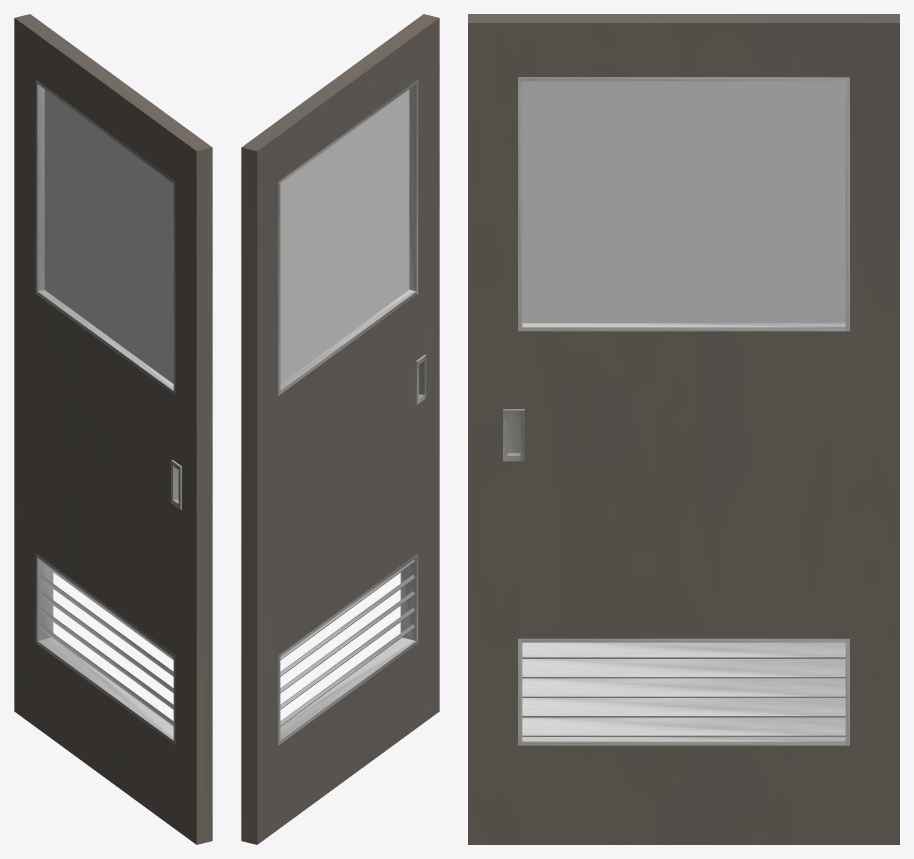
Rendered from door_v3.fbx.
3 renders of one model, left to right at view 1: azimuth 30°, elevation 25°; view 2: azimuth 150°, elevation 25°; view 3: azimuth 270°, elevation 25°, orthographic. The views are drawn at different scales.
Visible parts, largest first — view 1: Door, Glass pane, Grill s1, frame s1, Frame b, frame s2, Frame t, Handle 2; view 2: Door, Glass pane, Grill s1, frame s2, Frame b, frame s1, Frame t, Handle 2; view 3: Door, Glass pane, Grill s1, Frame b, Frame t, frame s1, frame s2, Handle.
Boxes of the visible parts, left/top/right/bottom form: Door: left=14, top=14, right=212, bottom=844; Glass pane: left=44, top=89, right=173, bottom=383; Grill s1: left=35, top=553, right=175, bottom=745; frame s1: left=35, top=80, right=44, bottom=293; Frame b: left=35, top=289, right=175, bottom=395; frame s2: left=173, top=180, right=175, bottom=395; Frame t: left=35, top=79, right=175, bottom=184; Handle 2: left=171, top=460, right=181, bottom=509; Door: left=241, top=14, right=439, bottom=844; Glass pane: left=280, top=89, right=409, bottom=383; Grill s1: left=278, top=553, right=418, bottom=745; frame s2: left=409, top=80, right=418, bottom=294; Frame b: left=278, top=289, right=416, bottom=395; frame s1: left=278, top=180, right=280, bottom=394; Frame t: left=278, top=79, right=418, bottom=184; Handle 2: left=415, top=355, right=426, bottom=404; Door: left=468, top=14, right=899, bottom=844; Glass pane: left=522, top=81, right=845, bottom=323; Grill s1: left=518, top=638, right=849, bottom=745; Frame b: left=518, top=323, right=846, bottom=331; Frame t: left=518, top=77, right=849, bottom=81; frame s1: left=845, top=77, right=849, bottom=331; frame s2: left=518, top=78, right=522, bottom=330; Handle: left=503, top=409, right=524, bottom=461.
Bounding box in the file's own units: 6.09 × 210 × 100.
5 materials, 4 textured.
